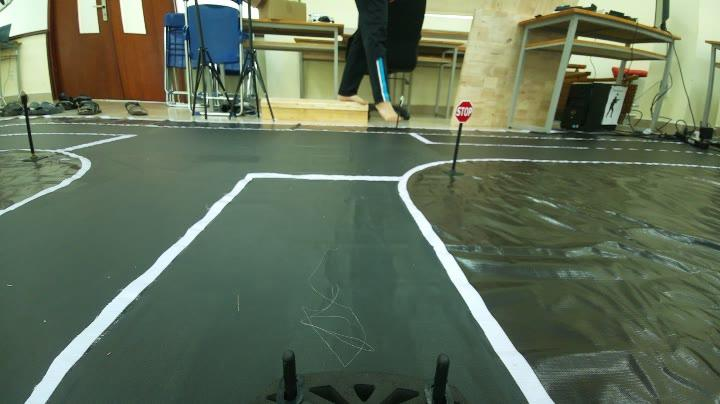stop: (452, 94, 477, 122)
